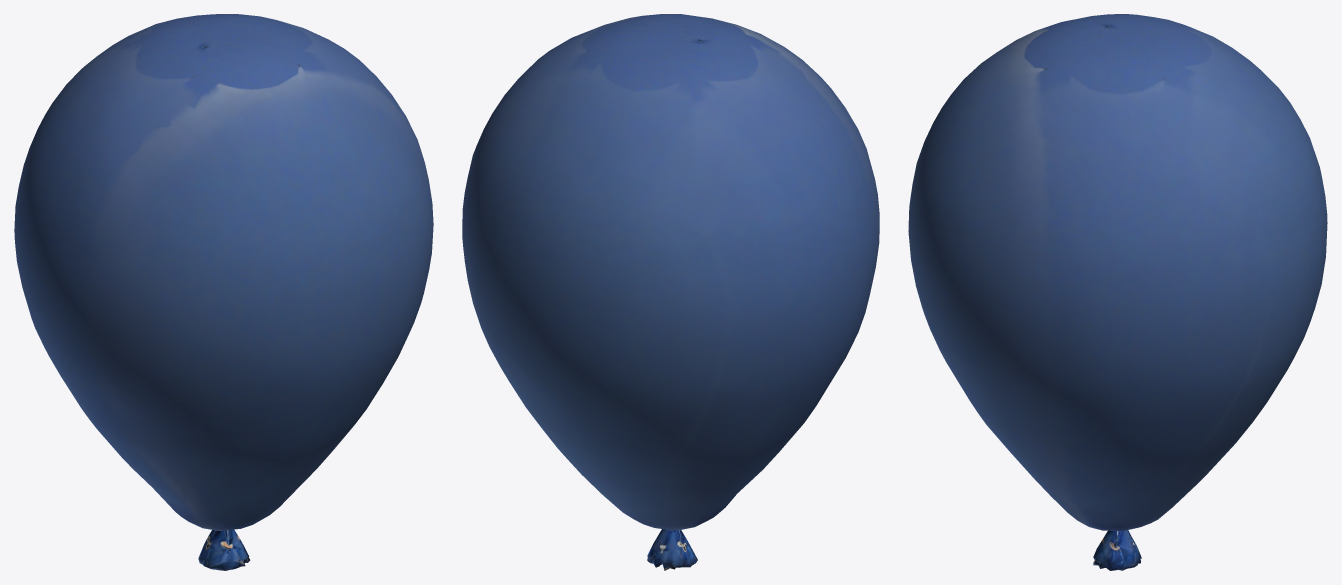
The model's file is A_single_low_poly_3D__1209034534_texture.fbx.
3 views of the same model, side by side, from view 1: azimuth 30°, elevation 25°; view 2: azimuth 150°, elevation 25°; view 3: azimuth 270°, elevation 25° (orthographic).
Visible parts, largest first — view 1: Mesh_0; view 2: Mesh_0; view 3: Mesh_0.
Part boxes in pixels (<box>): Mesh_0: <box>14,14,433,570</box>; Mesh_0: <box>462,14,879,570</box>; Mesh_0: <box>908,14,1327,570</box>.
Bounding box in the file's own units: 130 × 181 × 130.
1 material, 1 textured.
